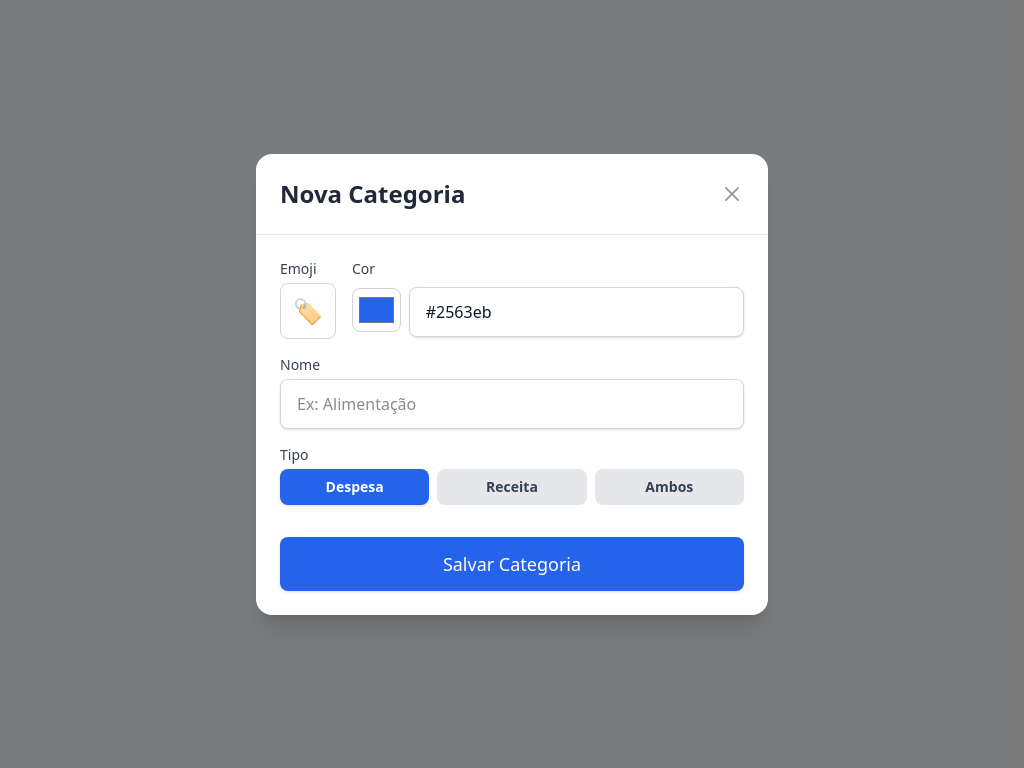
Scenario: CategoryFormModal › validates name/emoji/colour before saving
The image size is (1024, 768).
Click the button "Salvar Categoria" at [512, 564], box [280,536,744,590]
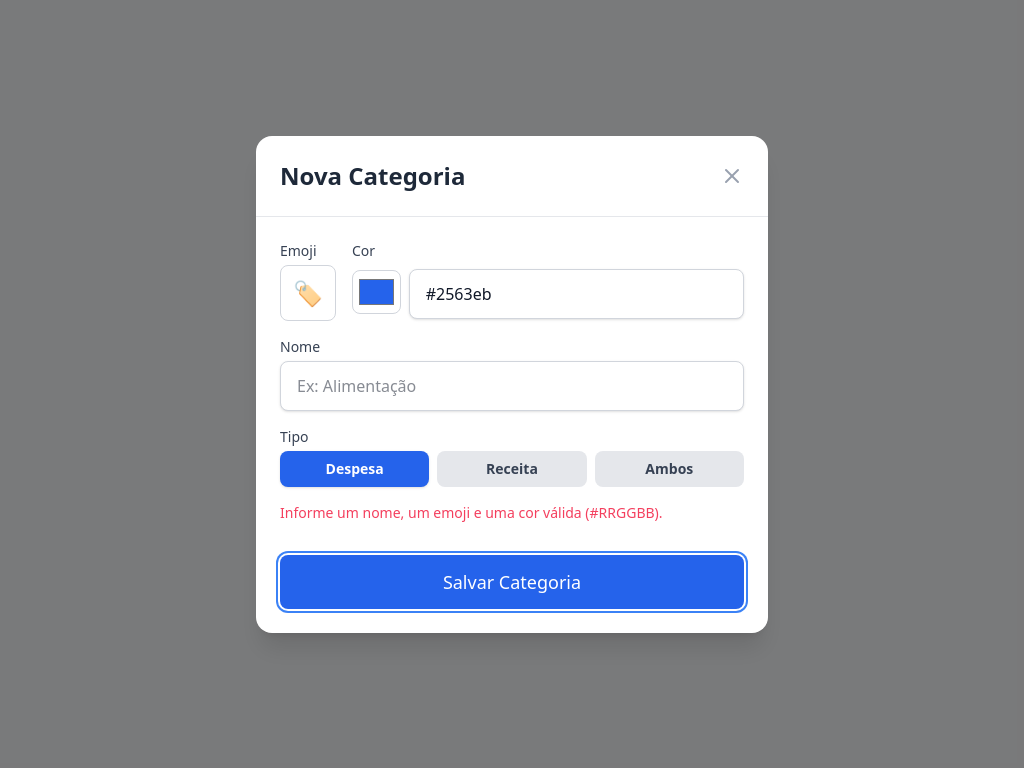
Check: the text "Informe um nome, um emoji e uma cor válida (#RRGGBB)." is shown, box [280,502,663,522]
